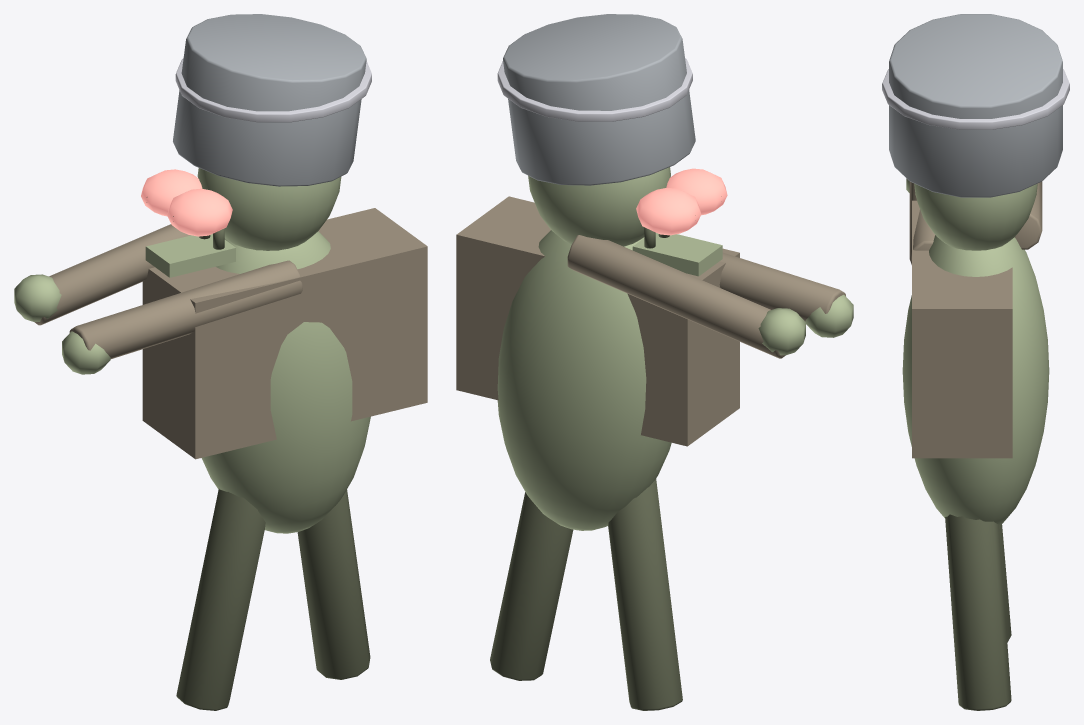
The model's file is buckethead.glb.
3 views of the same model, side by side, from view 1: azimuth 30°, elevation 25°; view 2: azimuth 150°, elevation 25°; view 3: azimuth 270°, elevation 25° (orthographic). The views are drawn at different scales.
Parts seen in each view (by area): view 1: chest, bucket_helmet, torso, leg, leg.001, arm.001, head, arm, bucket_rim, mouth_band, eye.001, hand (+2 smaller); view 2: torso, bucket_helmet, chest, leg, leg.001, arm, head, arm.001, bucket_rim, eye, mouth_band, hand (+2 smaller); view 3: bucket_helmet, chest, torso, leg.001, head, bucket_rim, arm, arm.001, leg.
Boxes of the visible parts, x1=… form: chest: x1=142, y1=208, x2=427, y2=459; bucket_helmet: x1=173, y1=14, x2=366, y2=186; torso: x1=201, y1=231, x2=370, y2=533; leg: x1=176, y1=489, x2=265, y2=710; leg.001: x1=297, y1=490, x2=370, y2=679; arm.001: x1=69, y1=260, x2=302, y2=358; head: x1=197, y1=168, x2=341, y2=250; arm: x1=35, y1=224, x2=190, y2=325; bucket_rim: x1=175, y1=58, x2=371, y2=122; mouth_band: x1=145, y1=234, x2=235, y2=277; eye.001: x1=167, y1=188, x2=232, y2=236; hand: x1=14, y1=274, x2=61, y2=322; torso: x1=497, y1=230, x2=671, y2=530; bucket_helmet: x1=503, y1=14, x2=695, y2=185; chest: x1=456, y1=196, x2=739, y2=446; leg: x1=608, y1=478, x2=682, y2=710; leg.001: x1=490, y1=492, x2=573, y2=680; arm: x1=567, y1=235, x2=785, y2=358; head: x1=528, y1=167, x2=670, y2=246; arm.001: x1=719, y1=252, x2=845, y2=321; bucket_rim: x1=497, y1=58, x2=692, y2=121; eye: x1=636, y1=187, x2=701, y2=235; mouth_band: x1=632, y1=233, x2=722, y2=276; hand: x1=758, y1=308, x2=805, y2=355; bucket_helmet: x1=889, y1=14, x2=1062, y2=197; chest: x1=912, y1=200, x2=1012, y2=458; torso: x1=902, y1=235, x2=1049, y2=525; leg.001: x1=945, y1=514, x2=1011, y2=710; head: x1=914, y1=183, x2=1037, y2=250; bucket_rim: x1=882, y1=69, x2=1069, y2=129; arm: x1=1015, y1=181, x2=1042, y2=249; arm.001: x1=909, y1=181, x2=935, y2=264; leg: x1=999, y1=524, x2=1011, y2=642.
Size of the model in its own units: 0.8523 by 1.51 by 0.41.
